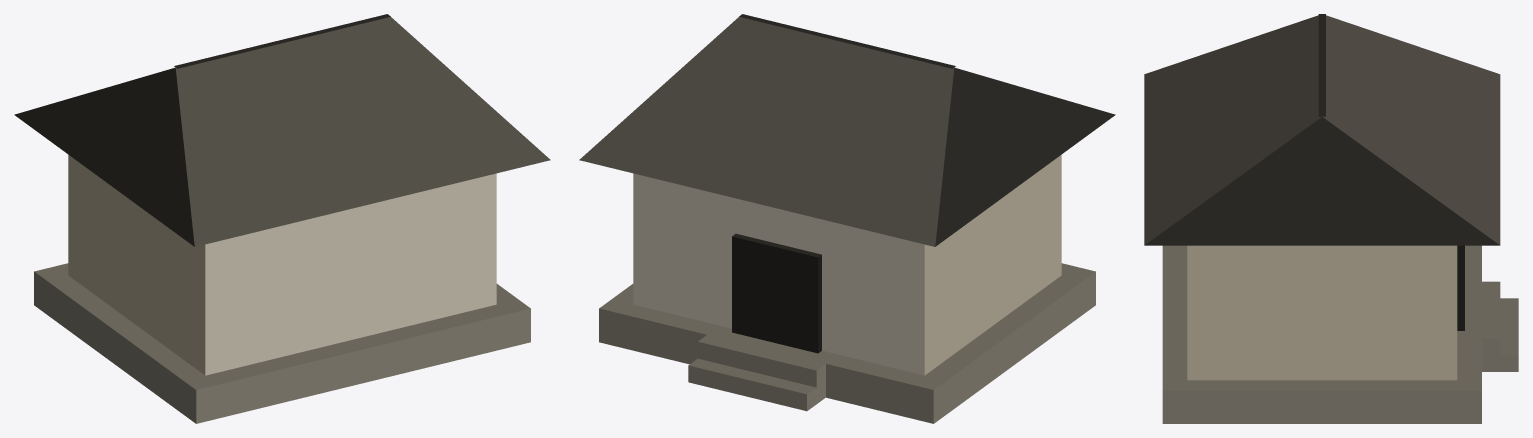
Rendered from bld_hall.glb.
3 views of the same model, side by side, from view 1: azimuth 30°, elevation 25°; view 2: azimuth 150°, elevation 25°; view 3: azimuth 270°, elevation 25° (orthographic).
Visible parts, largest first — view 1: bld_hall; view 2: bld_hall; view 3: bld_hall.
Part boxes in pixels (x1=…): bld_hall: x1=14, y1=14, x2=550, y2=423; bld_hall: x1=579, y1=14, x2=1115, y2=423; bld_hall: x1=1144, y1=14, x2=1518, y2=423.
Size of the model in its own units: 1.32 by 1 by 1.22.
Materials: 1 (1 with a texture image).
